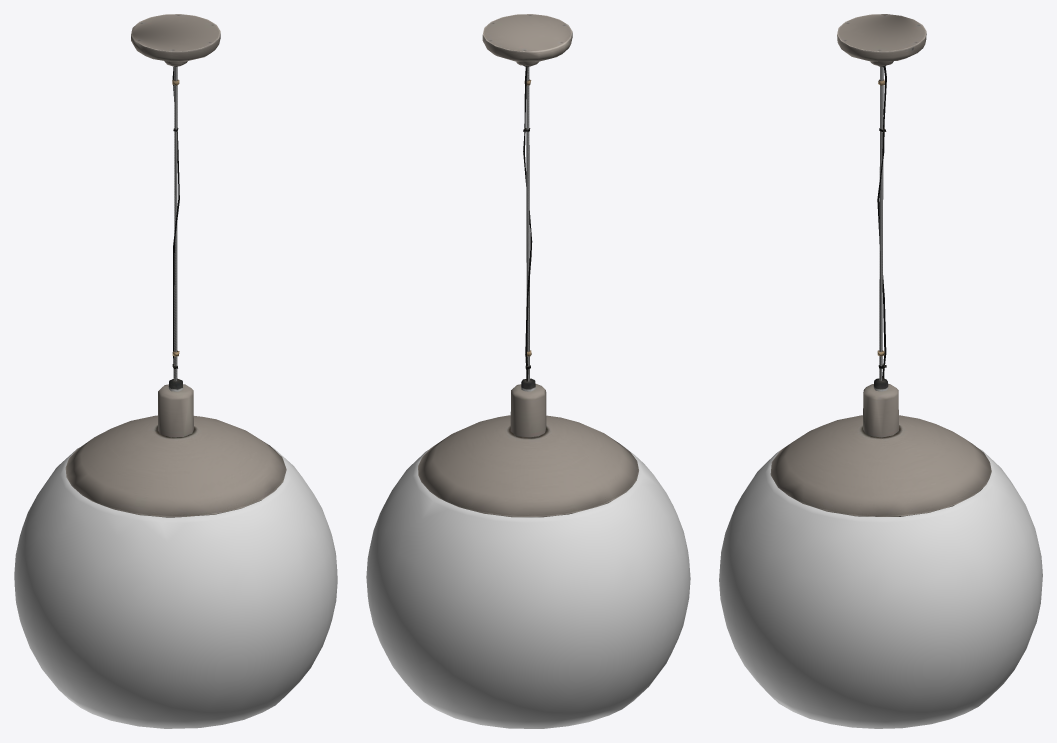
Rendered from modern_ceiling_lamp_01.fbx.
3 renders of one model, left to right at view 1: azimuth 30°, elevation 25°; view 2: azimuth 150°, elevation 25°; view 3: azimuth 270°, elevation 25°, orthographic.
Parts seen in each view (by area): view 1: modern_ceiling_lamp_01_LOD0; view 2: modern_ceiling_lamp_01_LOD0; view 3: modern_ceiling_lamp_01_LOD0.
Part boxes in pixels (box(x1,y1,x2,y2)): modern_ceiling_lamp_01_LOD0: box(14, 14, 337, 728); modern_ceiling_lamp_01_LOD0: box(366, 14, 690, 728); modern_ceiling_lamp_01_LOD0: box(719, 14, 1042, 728).
Size of what is drawn, in the model's own units: 43.16 by 95.16 by 43.17.
Materials: 3 (2 with a texture image).
